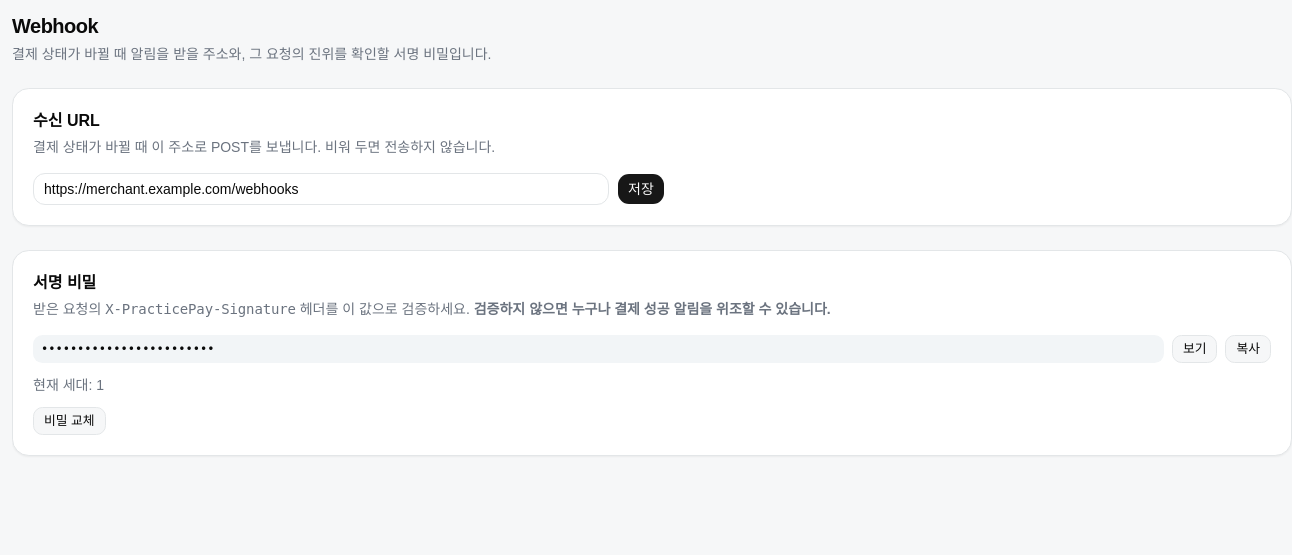
Test: WebhookPage › 확인하면 교체하고 새 세대를 보여준다
This screenshot has width=1292, height=555.
What coordinates should you click on to do the following:
click the button "비밀 교체"
I would click on:
 (69, 421)
Its box is [33,407,106,435].
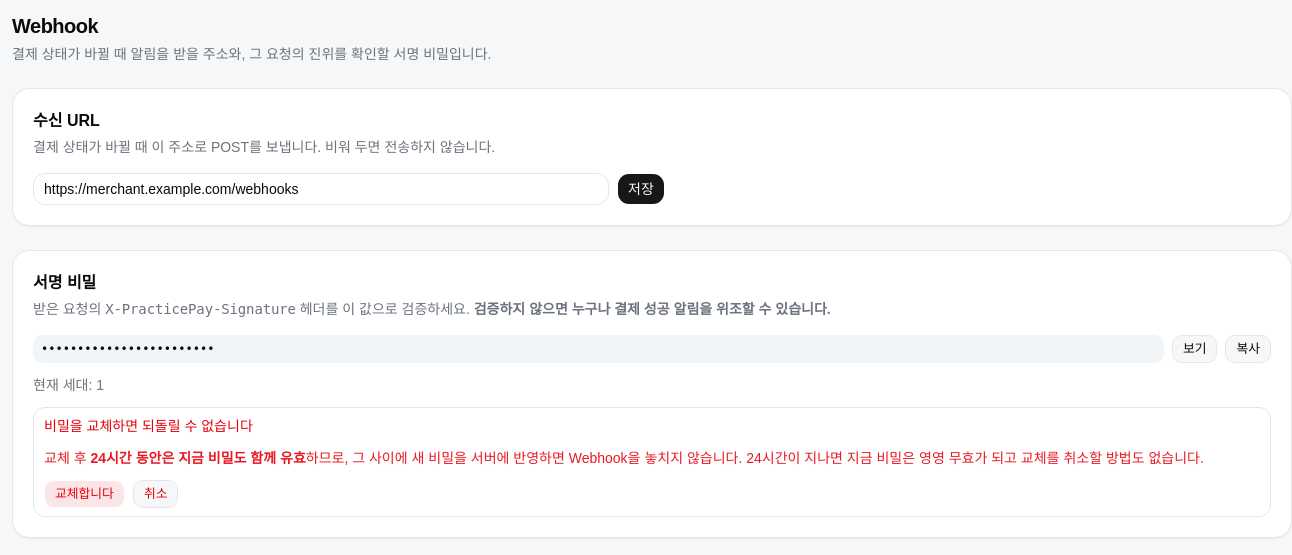
What coordinates should you click on to do the following:
click the button "교체합니다"
I would click on:
 (84, 494)
Its box is [44,480,125,508].
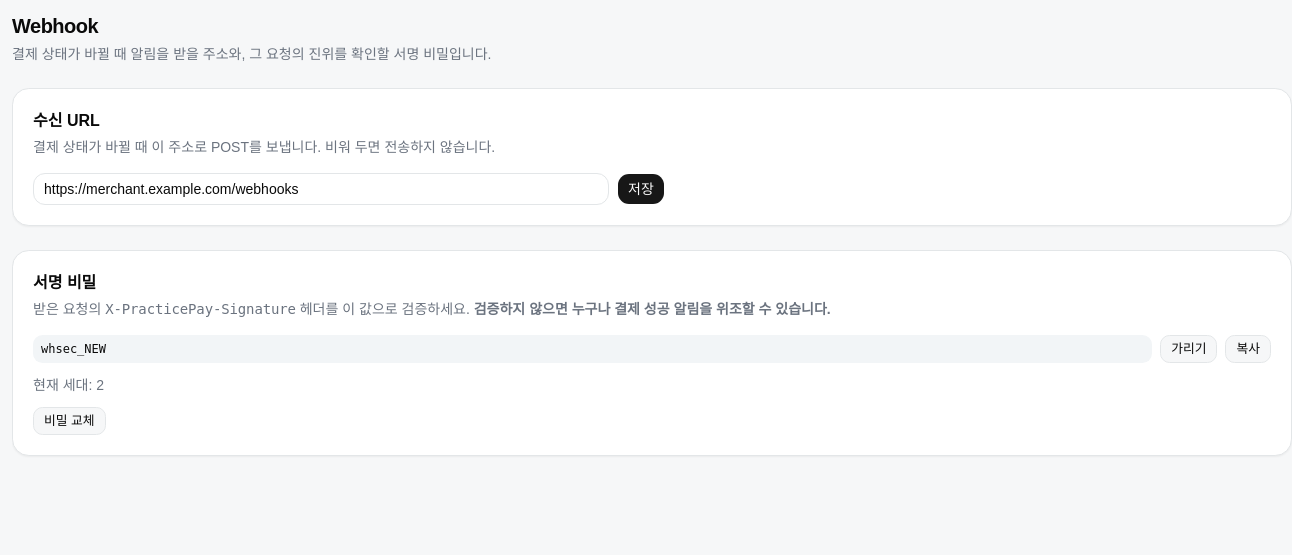
Expected: the text "현재 세대: 2" is shown, [33,377,104,393]
Expected: the text with test id "signing-secret" reads "whsec_NEW", [41,342,106,356]
